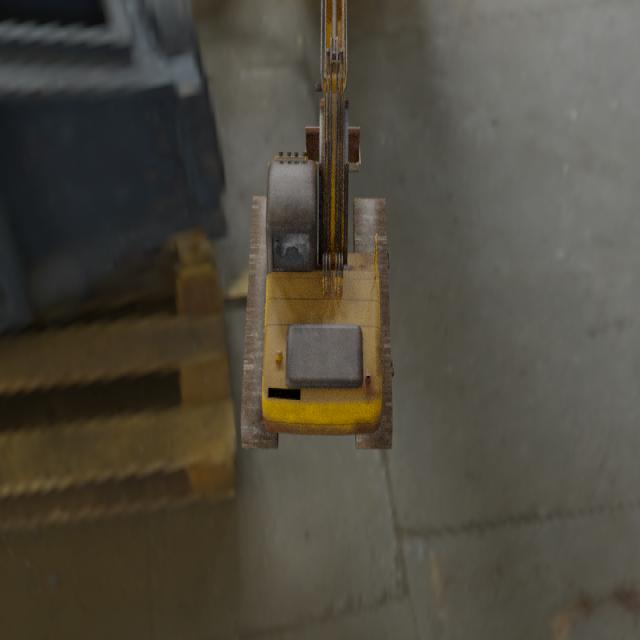excavator: (240, 0, 394, 451)
